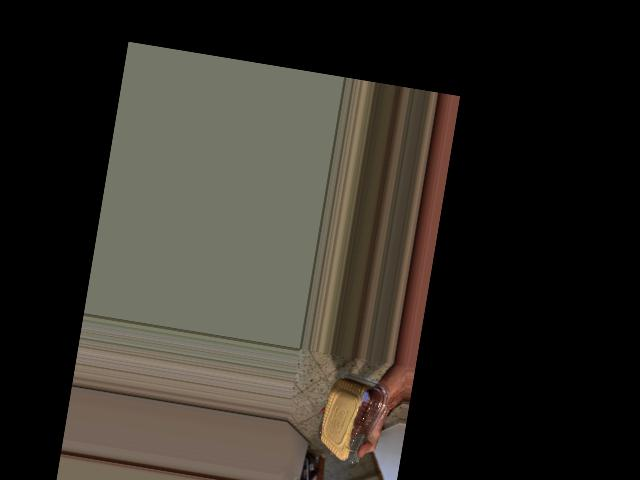cheese: (327, 366, 376, 446)
